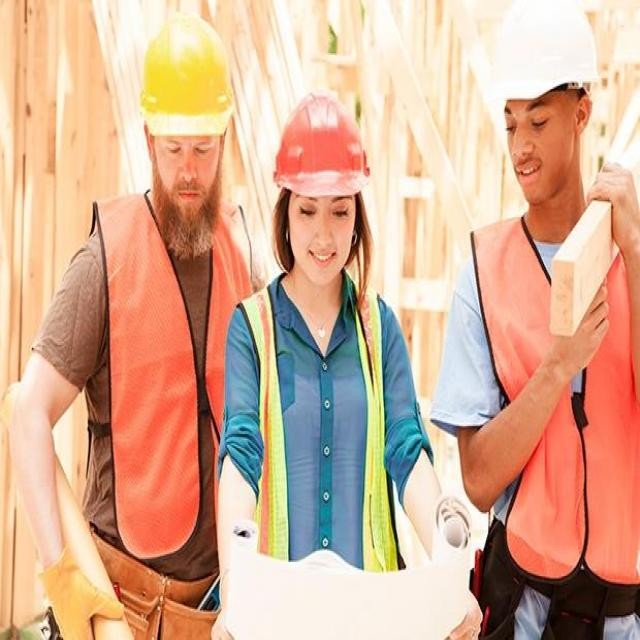Reflective-Jacket: (471, 198, 637, 576), (84, 184, 250, 556), (234, 273, 403, 578)
Safety-Helmet: (133, 11, 238, 145), (267, 86, 375, 204), (486, 0, 604, 105)
